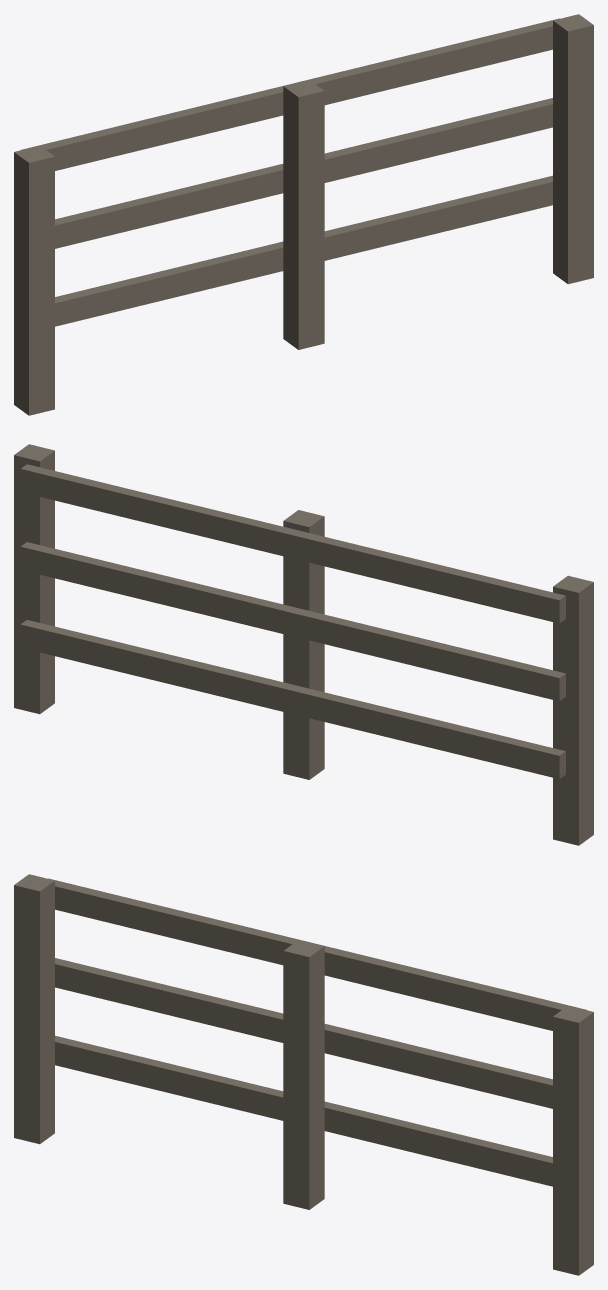
File: rail_fence.glb
The picture shows the model from 3 angles, top to bottom: view 1: azimuth 30°, elevation 25°; view 2: azimuth 150°, elevation 25°; view 3: azimuth 330°, elevation 25°; orthographic projection.
Visible parts, largest first — view 1: rail_fence; view 2: rail_fence; view 3: rail_fence.
Boxes of the visible parts, x1=… form: rail_fence: x1=14, y1=14, x2=593, y2=415; rail_fence: x1=14, y1=444, x2=593, y2=845; rail_fence: x1=14, y1=874, x2=593, y2=1275.
Size of the model in its own units: 3.04 by 1.3 by 0.2.
1 material, 1 textured.
